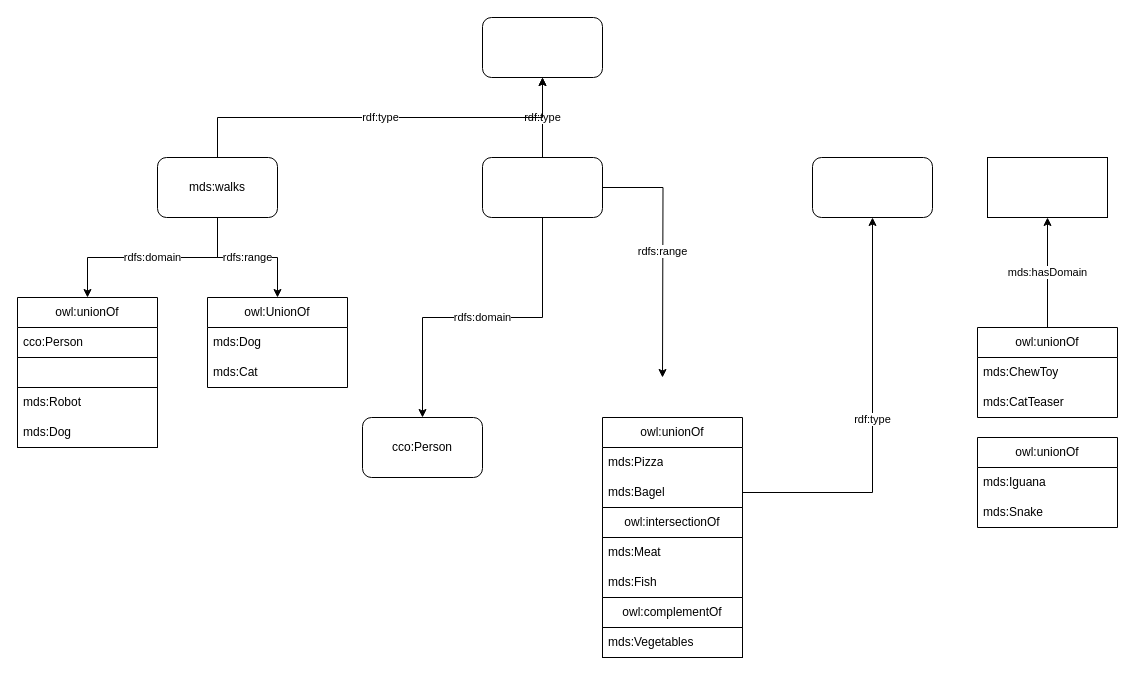
Image size: 1135x675. Some labels were removed from this diagram. The centre of each missing label's shape, as x and y in pixels:
"Pet Supplies": [1047,187]
mds:eats: [542,187]
obo:Object: [872,187]
owl:ObjectProperty: [542,47]
